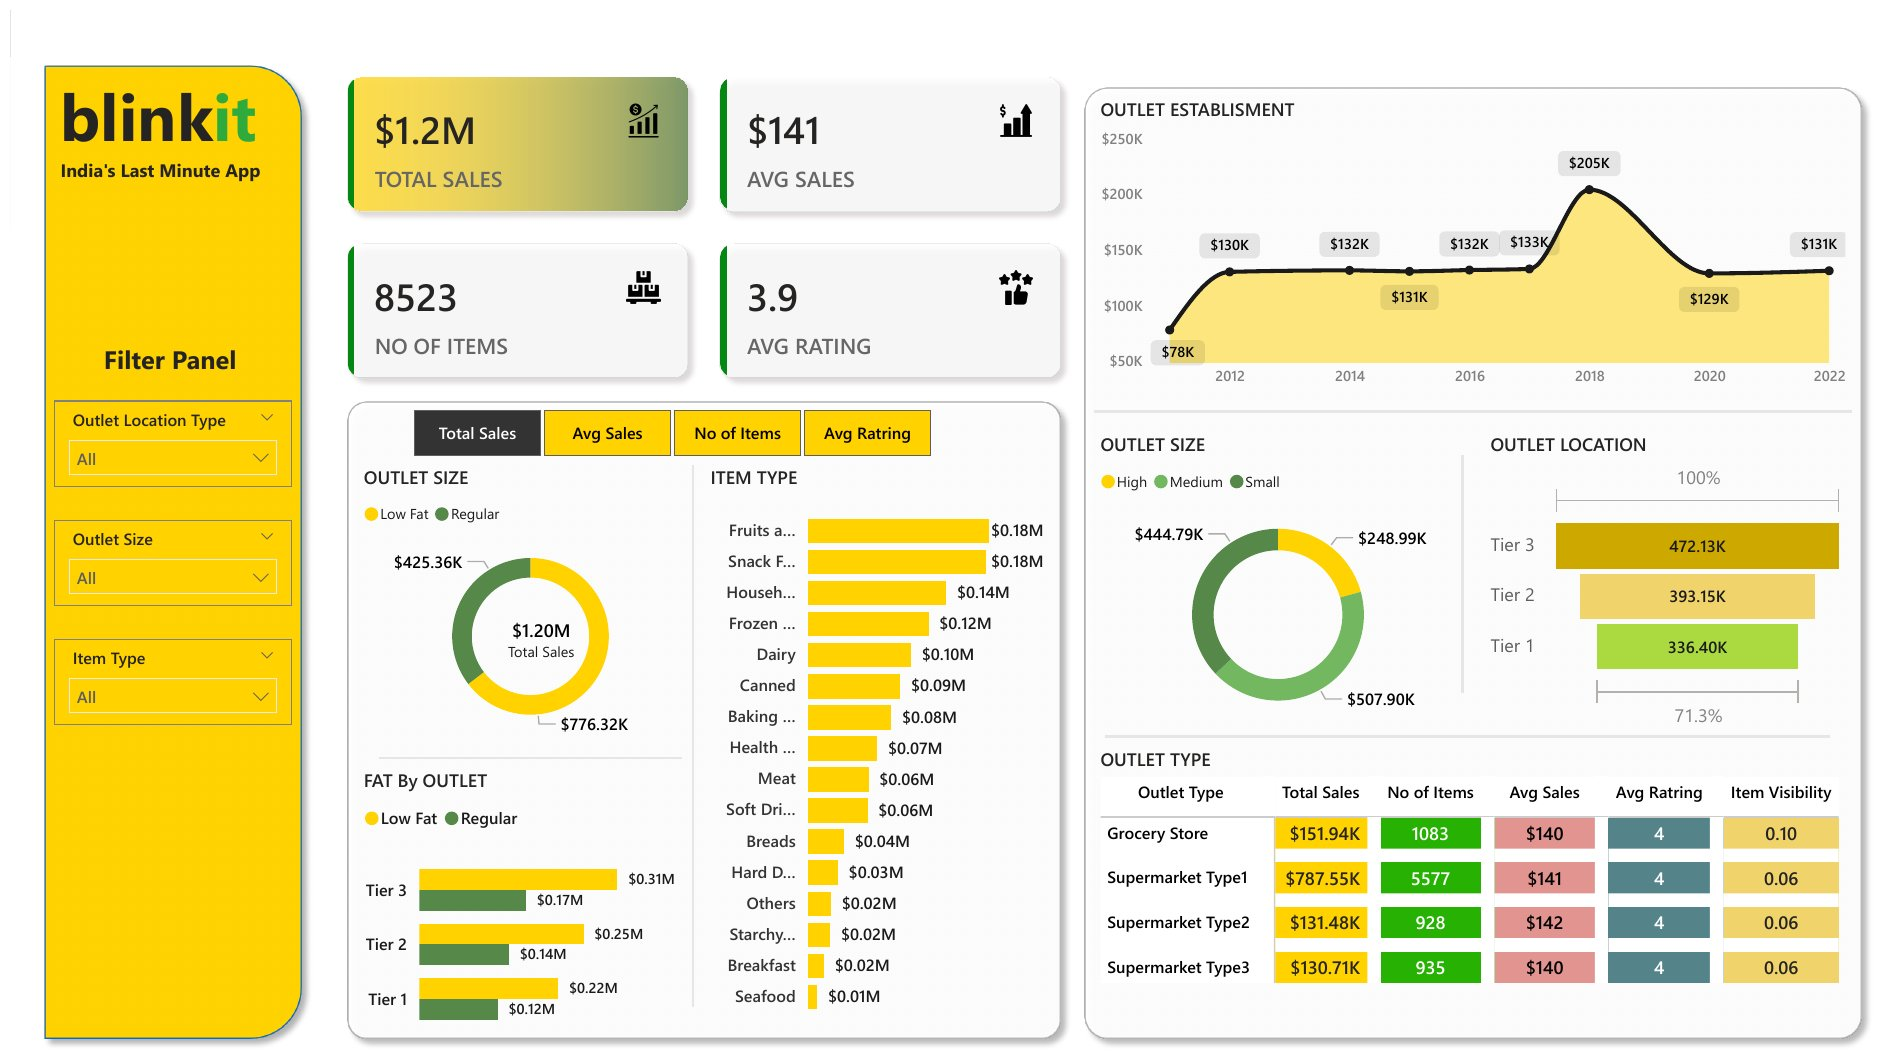

The page's visual inventory and layout, read from the dashboard file:
{"tool":"powerbi","page":{"name":"Page 1","canvas":[1400,800],"ordinal":0},"visuals":[{"type":"shape","box":[16,32,208,736],"z":0},{"type":"textbox","box":[32,40,176,80],"z":1000},{"type":"textbox","box":[32,104,176,32],"z":2000},{"type":"cardVisual","fields":{"Data":["BlinkIT Grocery Data.Total Sales","BlinkIT Grocery Data.Avg Sales","BlinkIT Grocery Data.No of Items","BlinkIT Grocery Data.Avg Ratring"]},"box":[232,32,560,256],"z":3000},{"type":"shape","box":[240,280,544,488],"z":4000},{"type":"slicer","fields":{"Values":["Maetices.Maetices"]},"box":[272,288,432,48],"z":5000},{"type":"cardVisual","fields":{"Data":["BlinkIT Grocery Data.Total Sales"]},"box":[336,432,112,64],"z":6000},{"type":"clusteredBarChart","title":"FAT By OUTLET","fields":{"Y":["BlinkIT Grocery Data.Total Sales"],"Category":["BlinkIT Grocery Data.Outlet Location Type"],"Series":["BlinkIT Grocery Data.Item Fat Content"]},"box":[256,560,240,208],"z":7000},{"type":"shape","box":[272,544,224,16],"z":8000},{"type":"shape","box":[496,336,16,400],"z":9000},{"type":"barChart","title":"ITEM TYPE","fields":{"Y":["BlinkIT Grocery Data.Total Sales"],"Category":["BlinkIT Grocery Data.Item Type"]},"box":[512,336,256,416],"z":10000},{"type":"shape","box":[784,48,592,720],"z":11000},{"type":"lineChart","title":"OUTLET ESTABLISMENT","fields":{"Category":["BlinkIT Grocery Data.Outlet Establishment Year"],"Y":["BlinkIT Grocery Data.Total Sales"]},"box":[800,64,560,224],"z":12000},{"type":"shape","box":[800,280,560,32],"z":13000},{"type":"donutChart","title":"OUTLET SIZE","fields":{"Series":["BlinkIT Grocery Data.Outlet Size"],"Y":["BlinkIT Grocery Data.Total Sales"]},"box":[800,312,272,224],"z":14000},{"type":"shape","box":[1056,328,32,176],"z":15000},{"type":"funnel","title":"OUTLET LOCATION","fields":{"Category":["BlinkIT Grocery Data.Outlet Location Type"],"Y":["Sum(BlinkIT Grocery Data.Sales)"]},"box":[1088,312,272,224],"z":16000},{"type":"shape","box":[808,520,536,32],"z":17000},{"type":"pivotTable","title":"OUTLET TYPE","fields":{"Rows":["BlinkIT Grocery Data.Outlet Type"],"Values":["BlinkIT Grocery Data.Total Sales","BlinkIT Grocery Data.No of Items","BlinkIT Grocery Data.Avg Sales","BlinkIT Grocery Data.Avg Ratring","Avg(BlinkIT Grocery Data.Item Visibility)"]},"box":[800,544,560,208],"z":18000},{"type":"slicer","fields":{"Values":["BlinkIT Grocery Data.Outlet Location Type"]},"box":[32,288,176,64],"z":19000},{"type":"slicer","fields":{"Values":["BlinkIT Grocery Data.Outlet Size"]},"box":[32,376,176,64],"z":20000},{"type":"slicer","fields":{"Values":["BlinkIT Grocery Data.Item Type"]},"box":[32,464,176,64],"z":21000},{"type":"donutChart","title":"OUTLET SIZE","fields":{"Y":["BlinkIT Grocery Data.Total Sales"],"Category":["BlinkIT Grocery Data.Item Fat Content"]},"box":[256,336,256,208],"z":22000},{"type":"textbox","box":[64,240,128,48],"z":23000}]}

Visuals, with their boxes in screenshot pixels (x1, y1, x2, y2), scaled from the page's 1400x800 canvas onto the 1881x1058 screenshot:
shape: 21,42,301,1016
textbox: 43,53,279,159
textbox: 43,138,279,180
cardVisual - BlinkIT Grocery Data.Total Sales x BlinkIT Grocery Data.Avg Sales: 312,42,1064,381
shape: 322,370,1053,1016
slicer - Maetices.Maetices: 365,381,946,444
cardVisual - BlinkIT Grocery Data.Total Sales: 451,571,602,656
"FAT By OUTLET" clusteredBarChart: 344,741,666,1016
shape: 365,719,666,741
shape: 666,444,688,973
"ITEM TYPE" barChart: 688,444,1032,995
shape: 1053,63,1849,1016
"OUTLET ESTABLISMENT" lineChart: 1075,85,1827,381
shape: 1075,370,1827,413
"OUTLET SIZE" donutChart: 1075,413,1440,709
shape: 1419,434,1462,667
"OUTLET LOCATION" funnel: 1462,413,1827,709
shape: 1086,688,1806,730
"OUTLET TYPE" pivotTable: 1075,719,1827,995
slicer - BlinkIT Grocery Data.Outlet Location Type: 43,381,279,466
slicer - BlinkIT Grocery Data.Outlet Size: 43,497,279,582
slicer - BlinkIT Grocery Data.Item Type: 43,614,279,698
"OUTLET SIZE" donutChart: 344,444,688,719
textbox: 86,317,258,381
